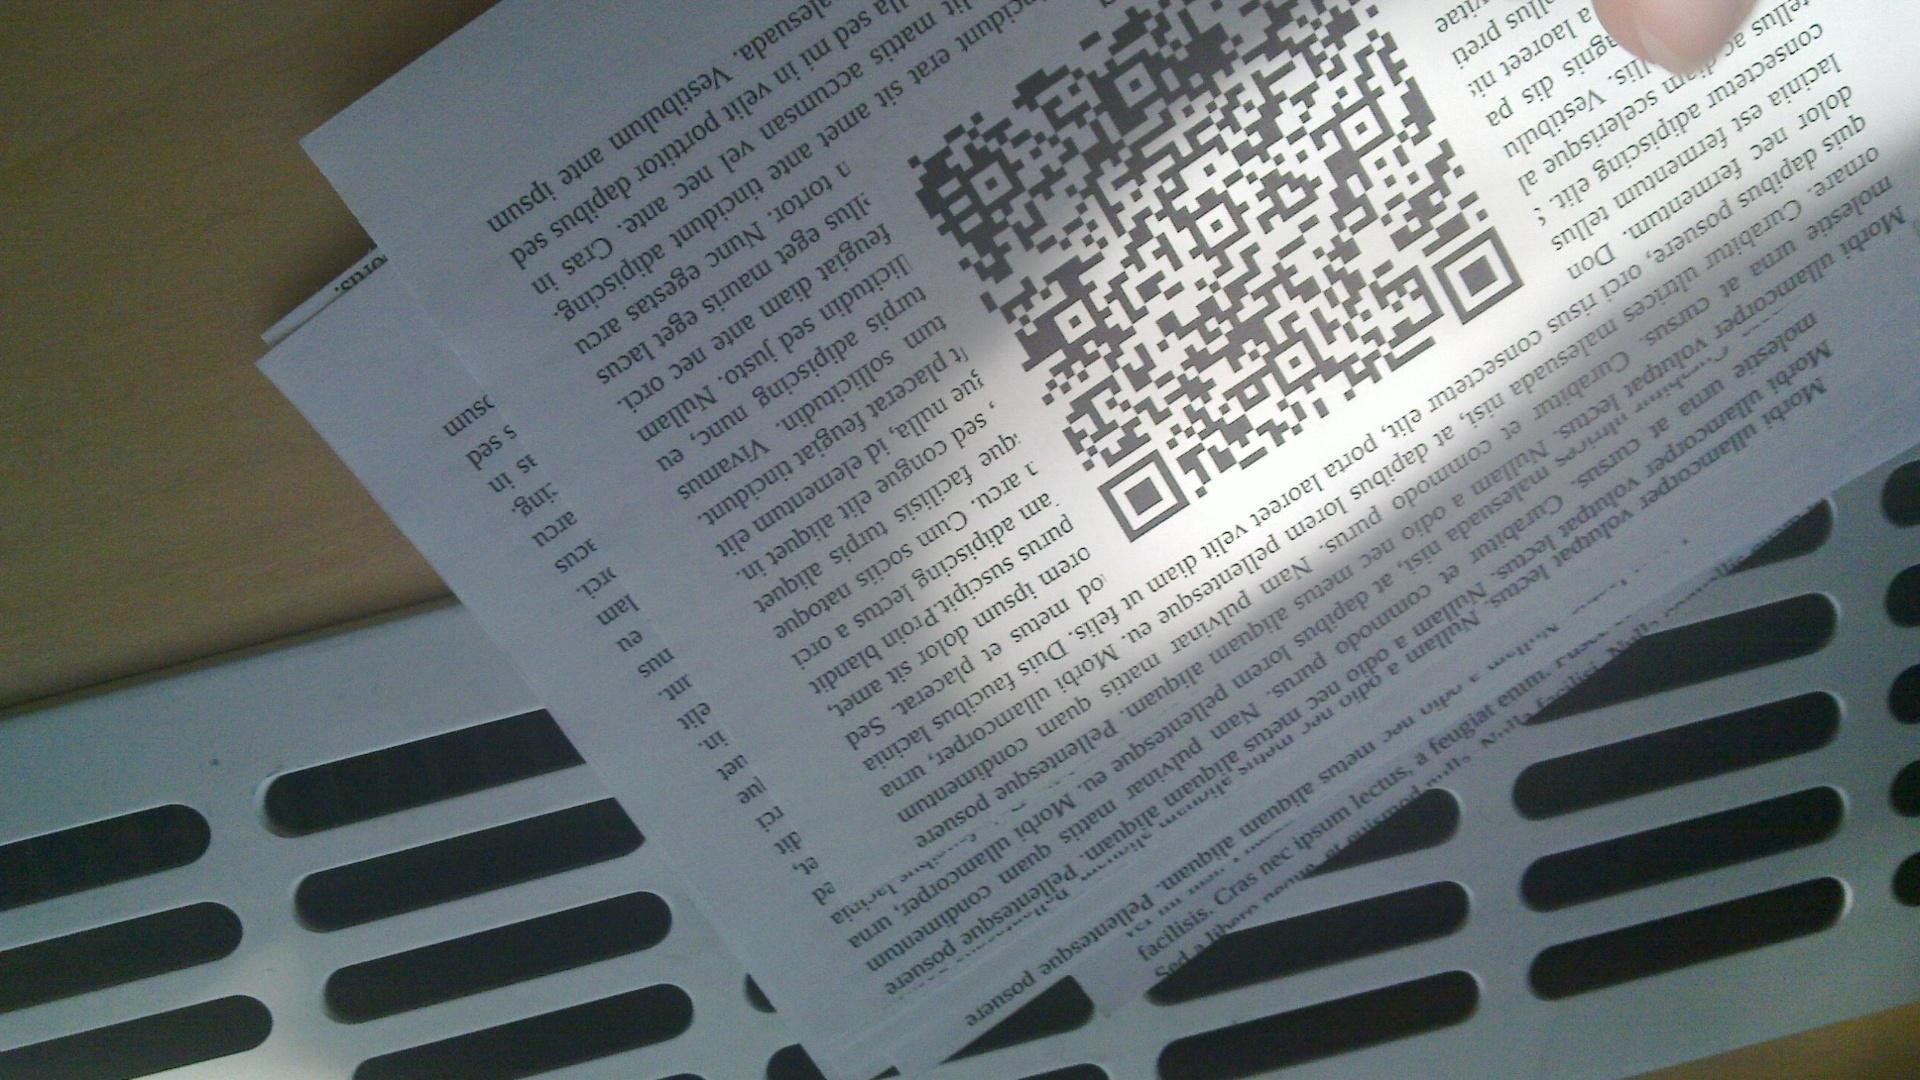Finder pattern: (1432, 227, 1526, 326), (1095, 448, 1189, 545)
